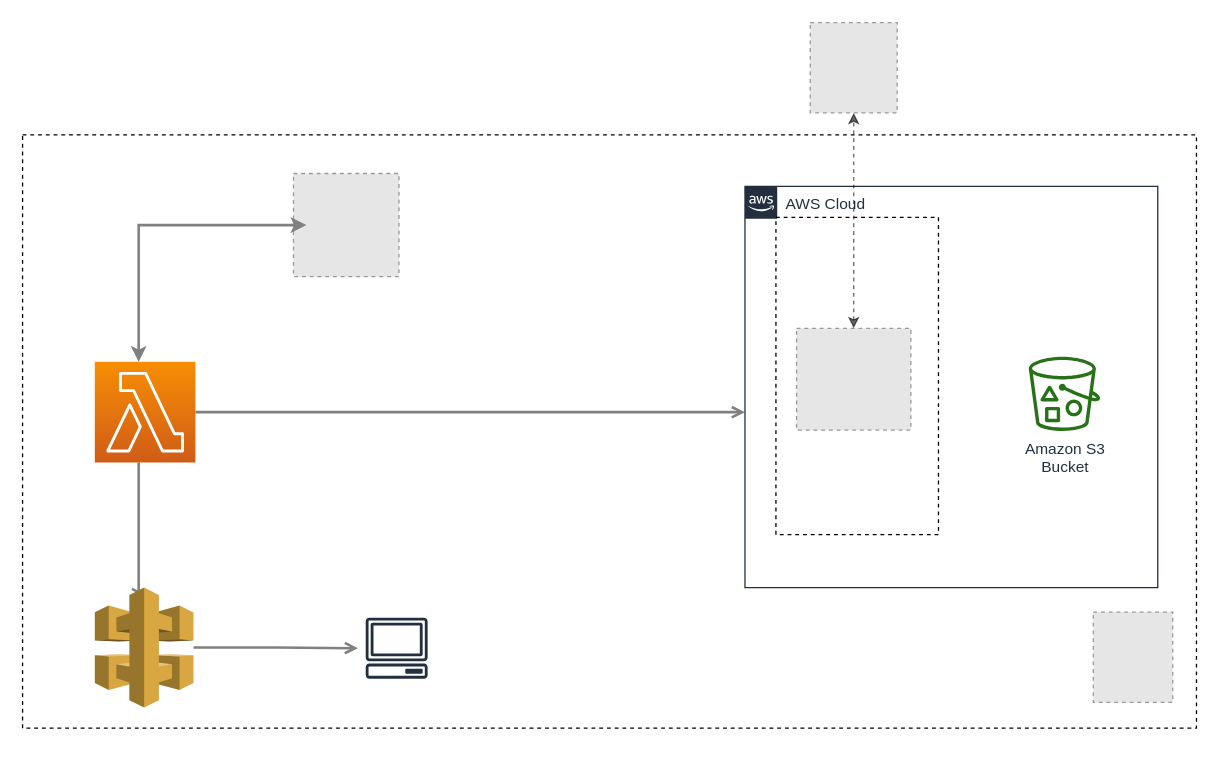
Some shapes in this 1219 by 761 pixel diagram are drawn without their labels. Grey dashed boxes stand in for pictures. The shapes that lost their labels are listed below. From the top down, each one's centre as x and y in pixels, then its label:
At (144,411): "Lambda".
At (396,647): "Client".
